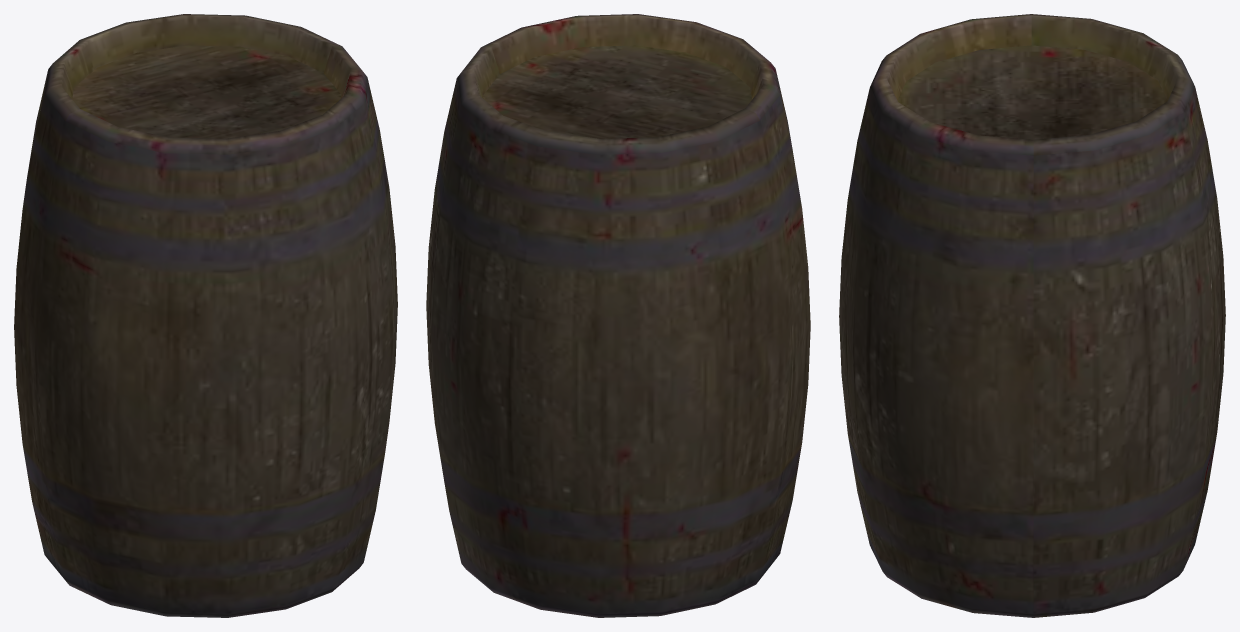
Rendered from SHO_General_Store_Barrel_2-transformed.glb.
The picture shows the model from 3 angles, left to right: view 1: azimuth 30°, elevation 25°; view 2: azimuth 150°, elevation 25°; view 3: azimuth 270°, elevation 25°; orthographic projection.
Parts seen in each view (by area): view 1: default; view 2: default; view 3: default.
Boxes of the visible parts, <box> form: default: <box>14,14,397,617</box>; default: <box>426,14,810,617</box>; default: <box>839,14,1225,617</box>.
Size of the model in its own units: 0.4627 by 0.628 by 0.4627.
1 material, 1 textured.
